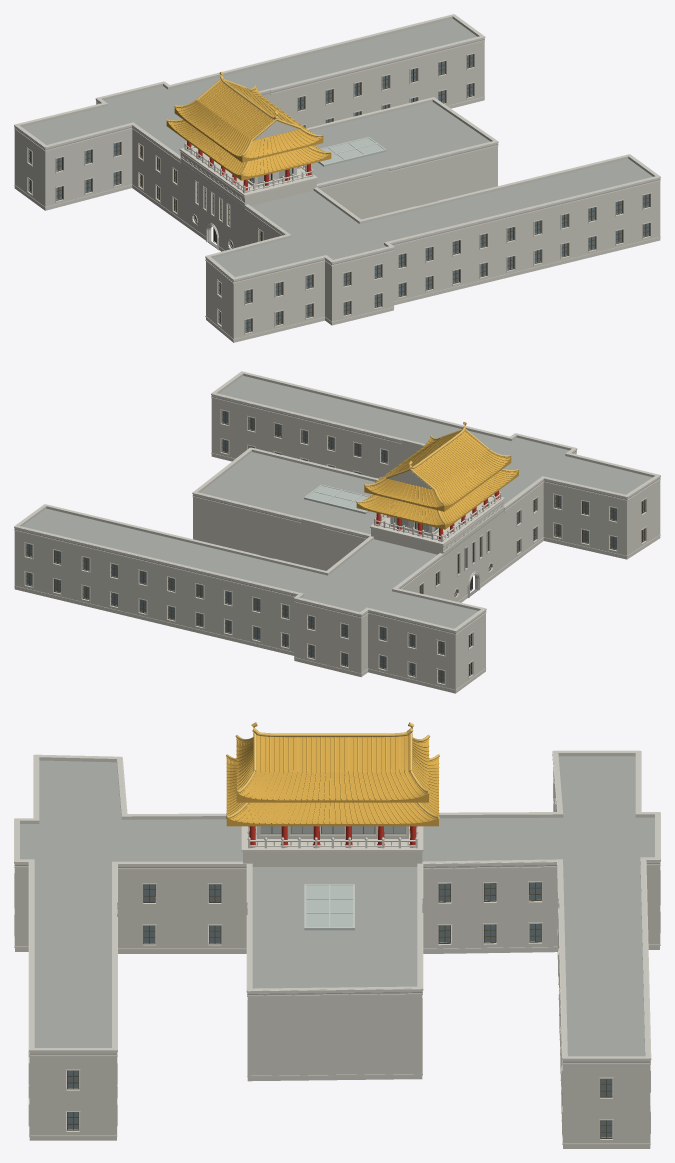
Rendered from yangpu-former-shanghai-city-museum-web.glb.
The picture shows the model from 3 angles, top to bottom: view 1: azimuth 30°, elevation 25°; view 2: azimuth 150°, elevation 25°; view 3: azimuth 270°, elevation 25°; orthographic projection. The views are drawn at different scales.
Visible parts, largest first — view 1: 旧上海市博物馆江湾馆舍; view 2: 旧上海市博物馆江湾馆舍; view 3: 旧上海市博物馆江湾馆舍.
Boxes of the visible parts, <box> form: 旧上海市博物馆江湾馆舍: <box>14,14,660,342</box>; 旧上海市博物馆江湾馆舍: <box>14,371,660,693</box>; 旧上海市博物馆江湾馆舍: <box>14,722,660,1148</box>.
Bounding box in the file's own units: 76.66 × 23.96 × 68.
